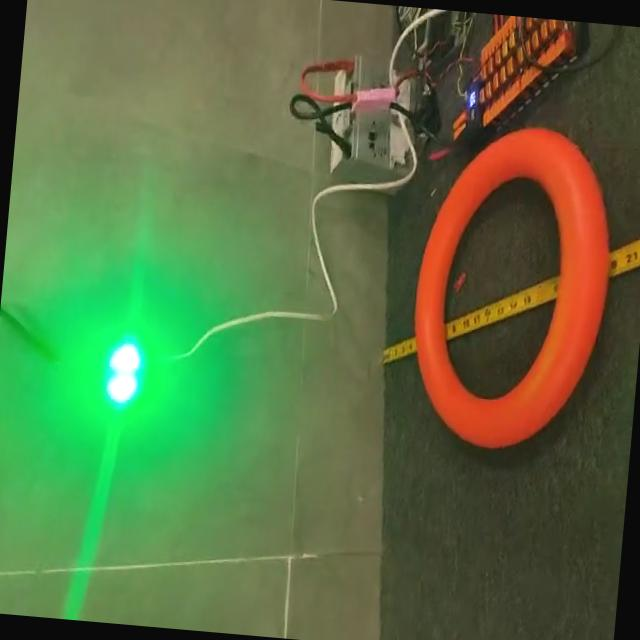note: (401, 120, 624, 459)
